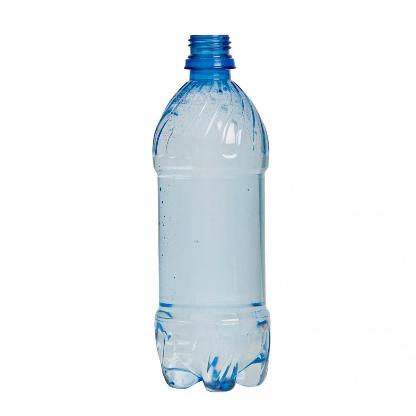Plastic Bottle: (154, 35, 270, 393)
